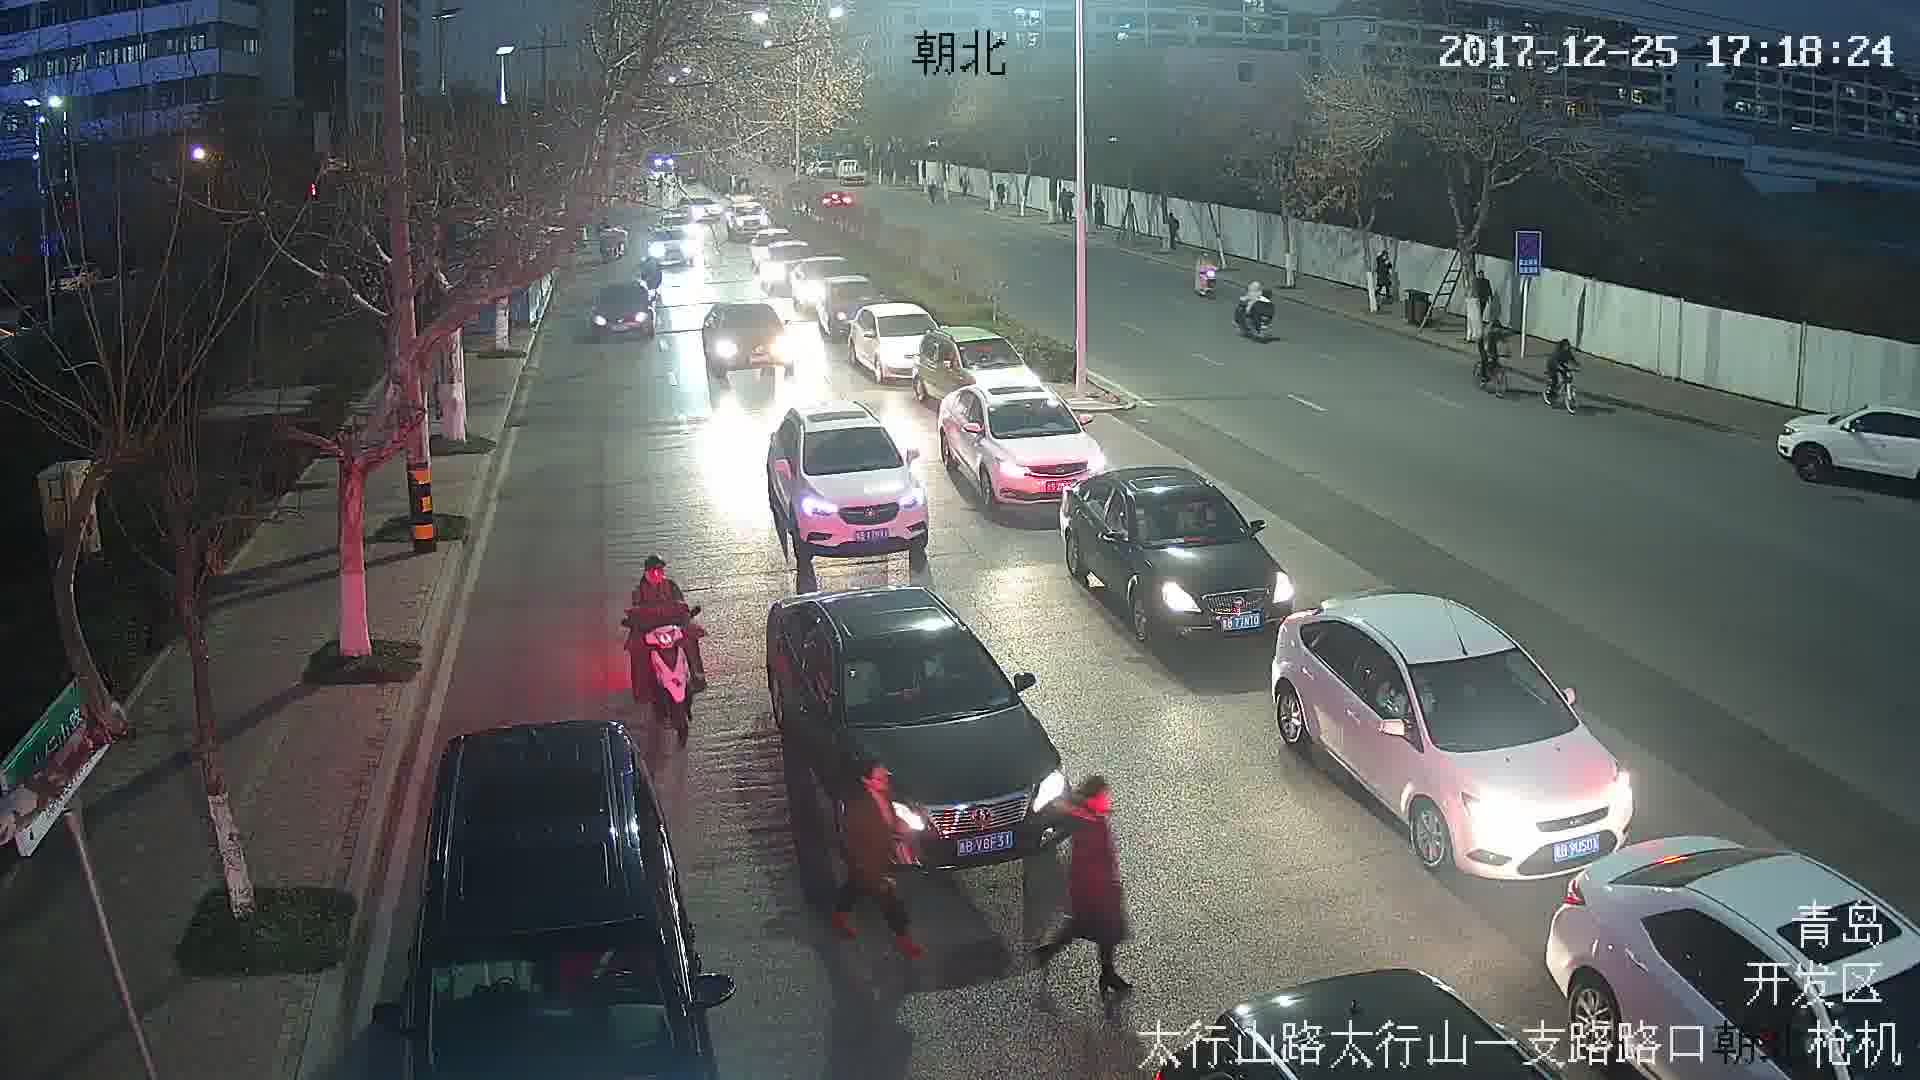car: (1284, 589, 1621, 882), (770, 587, 1078, 864), (1070, 469, 1292, 639), (771, 407, 930, 560), (939, 384, 1110, 505), (703, 300, 792, 377), (856, 307, 935, 380), (589, 281, 656, 338)
person: (1060, 775, 1143, 992), (841, 760, 925, 964), (627, 555, 703, 674), (1545, 334, 1580, 412), (1237, 277, 1277, 335), (1475, 321, 1509, 385), (1191, 250, 1214, 299)
